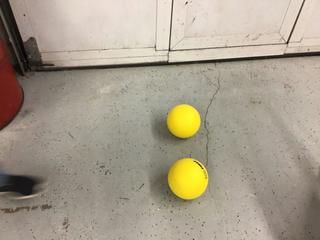power_cell: (165, 156, 212, 202), (166, 100, 206, 140)
